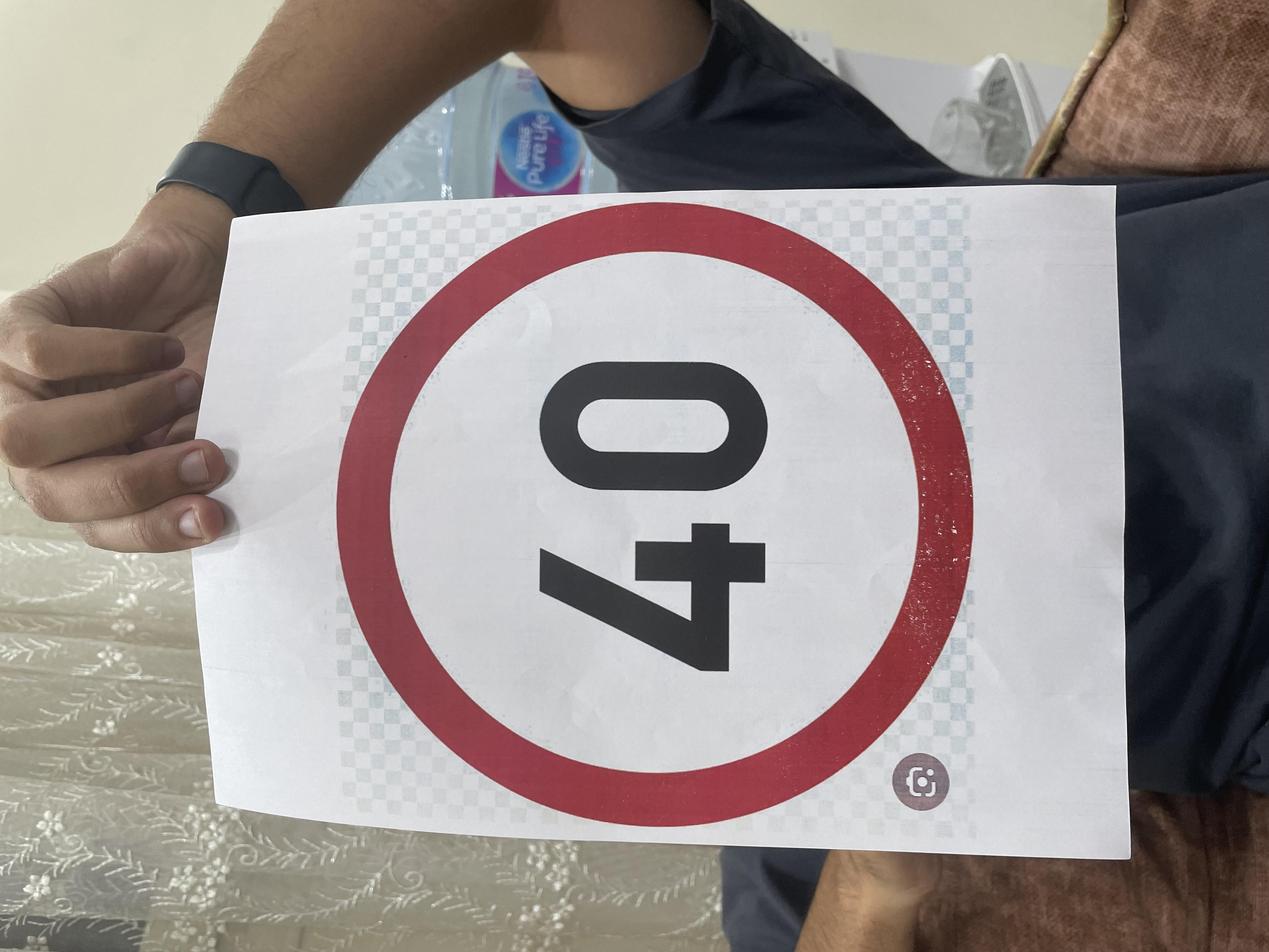40-Speed: (164, 248, 1023, 728)
